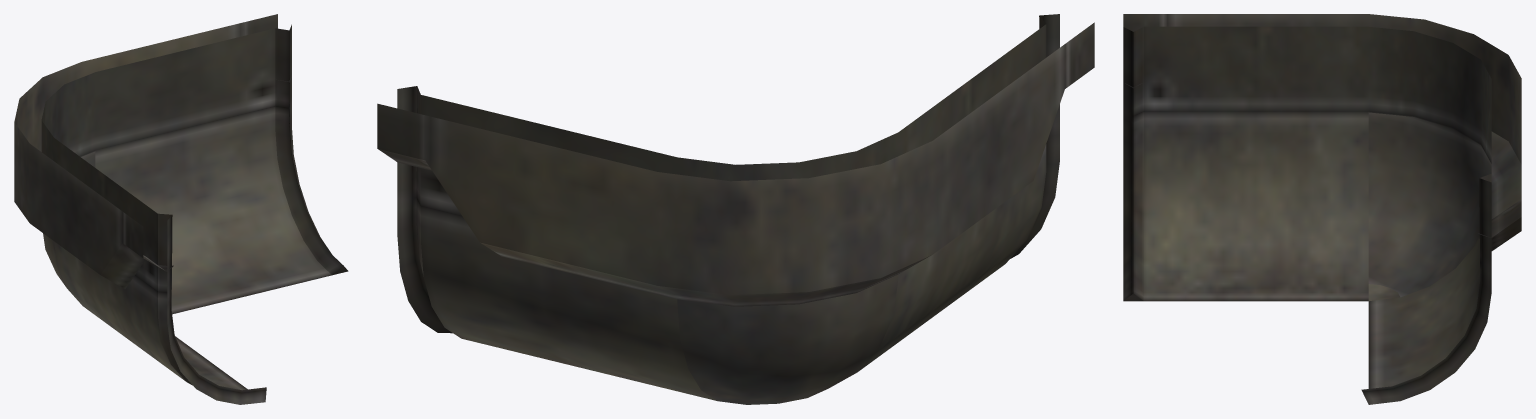
File: welder_ceiling_convex_small_pplant.dae
The picture shows the model from 3 angles, left to right: view 1: azimuth 30°, elevation 25°; view 2: azimuth 150°, elevation 25°; view 3: azimuth 270°, elevation 25°; orthographic projection. The views are drawn at different scales.
Visible parts, largest first — view 1: polySurface11; view 2: polySurface11; view 3: polySurface11.
Part boxes in pixels (<box>): polySurface11: <box>14,14,348,404</box>; polySurface11: <box>377,14,1094,404</box>; polySurface11: <box>1123,14,1521,404</box>.
Size of the model in its own units: 81.15 by 50 by 81.15.
